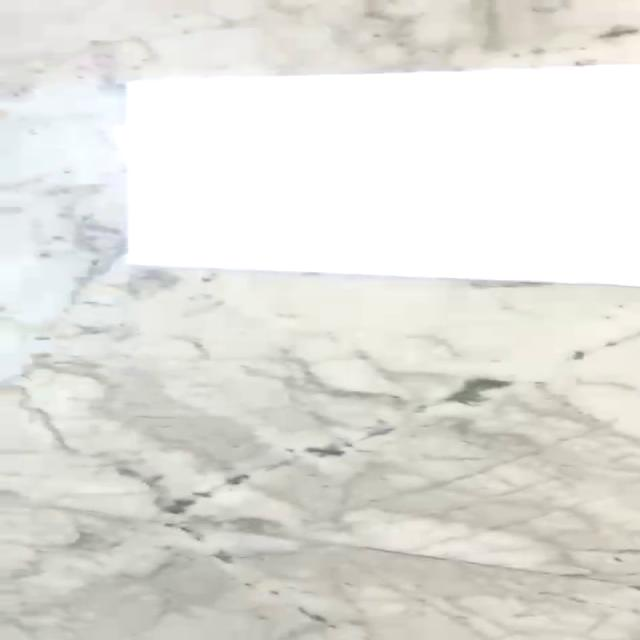road: (123, 62, 640, 285)
